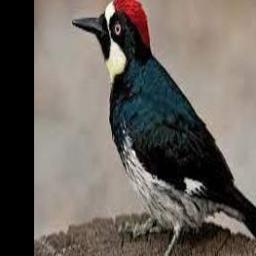Woodpecker: (71, 0, 256, 256)
